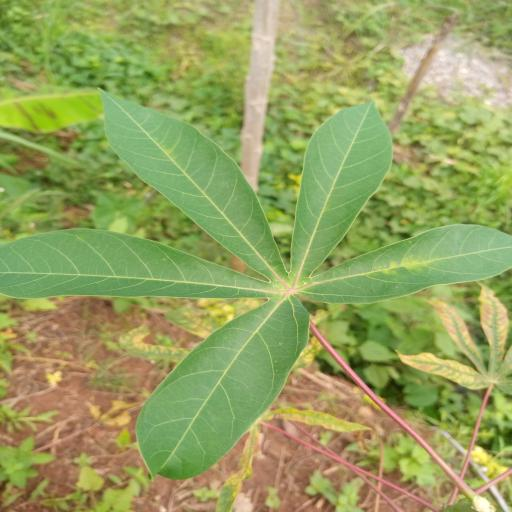Cassava_Healthy: (0, 84, 512, 484)
